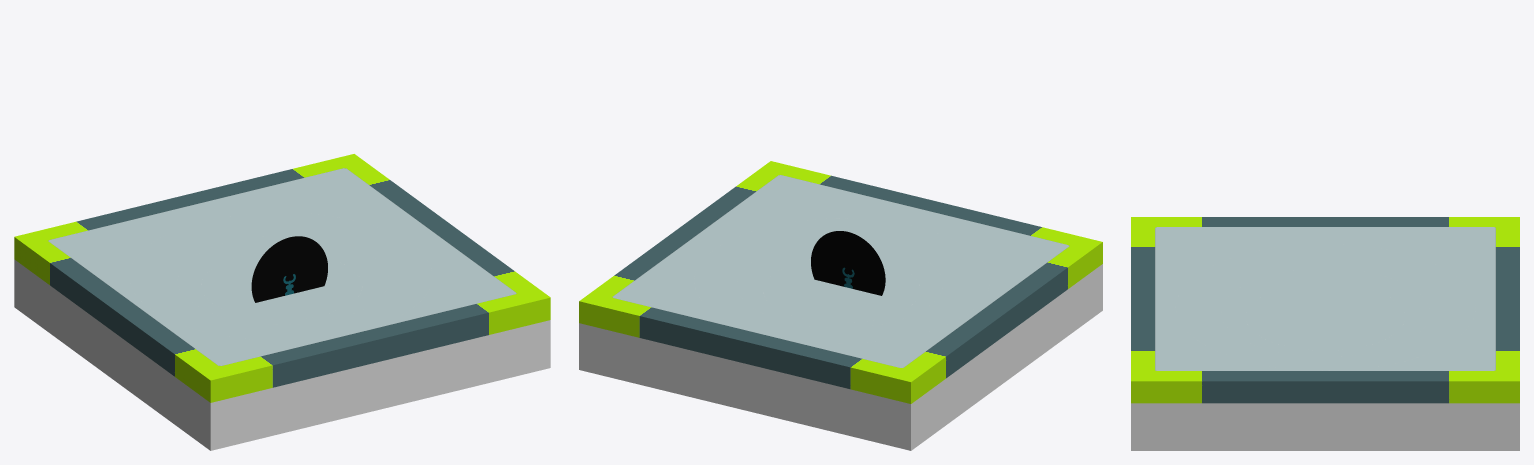
File: trap_blackhole_test(1).fbx
The picture shows the model from 3 angles, left to right: view 1: azimuth 30°, elevation 25°; view 2: azimuth 150°, elevation 25°; view 3: azimuth 270°, elevation 25°; orthographic projection. The views are drawn at different scales.
Visible parts, largest first — view 1: Plane, floor; view 2: Plane, floor; view 3: Plane, floor.
Part boxes in pixels (x1,y1,x2,y2): Plane: [14, 154, 550, 402]; floor: [14, 259, 550, 450]; Plane: [579, 161, 1102, 403]; floor: [579, 264, 1102, 450]; Plane: [1131, 217, 1519, 403]; floor: [1131, 403, 1519, 450].
Size of the model in its own units: 200 by 168 by 200.
